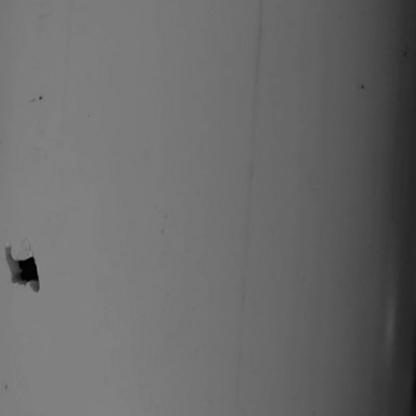kongdong: (1, 231, 63, 301)
